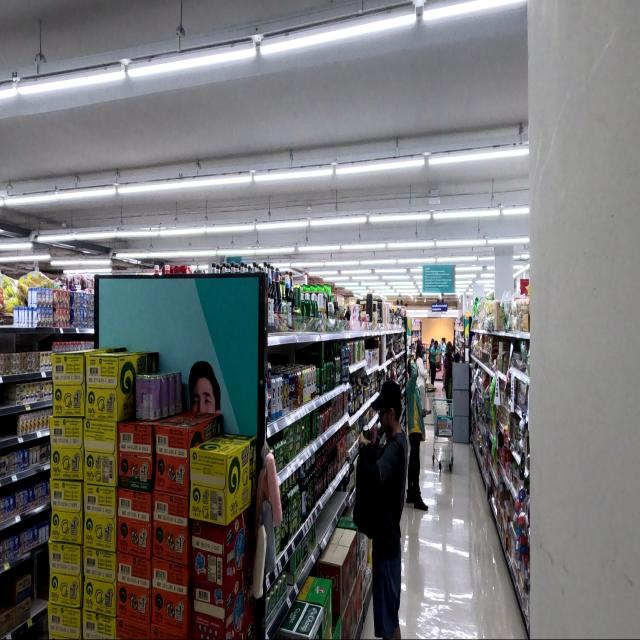shoplifting: (357, 383, 406, 640)
